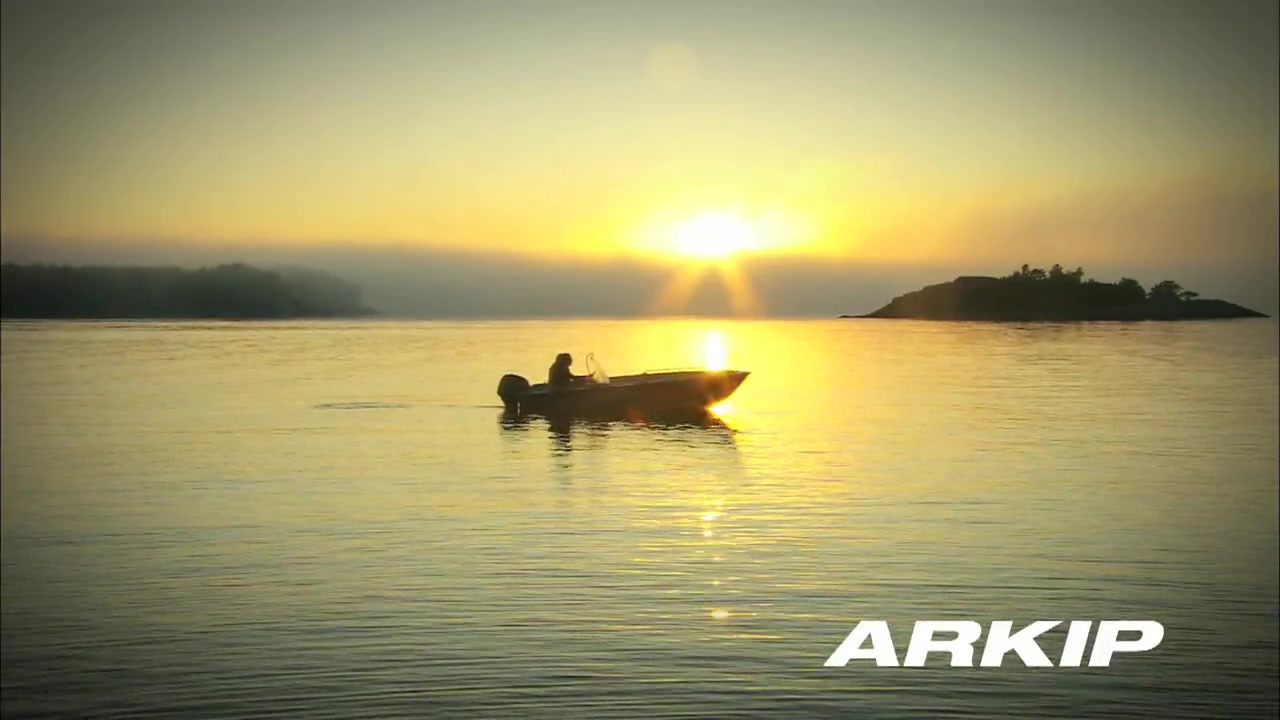boat: (495, 351, 750, 430)
